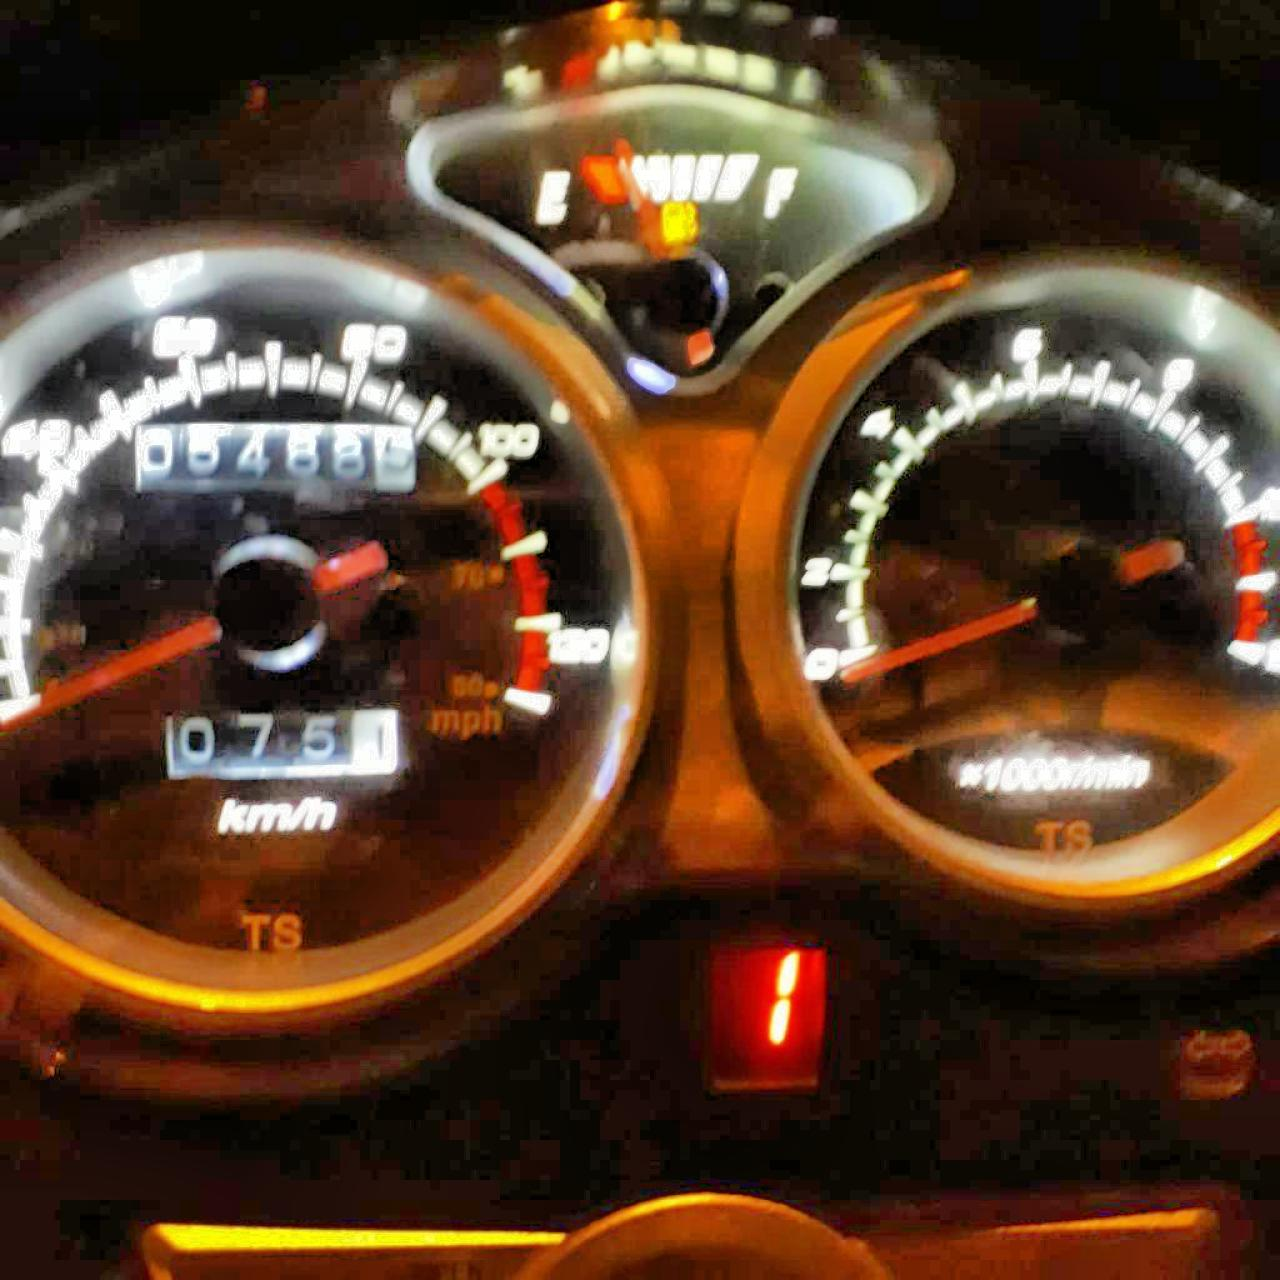0: (139, 427, 172, 478)
4: (234, 428, 270, 477)
5: (186, 424, 219, 475), (381, 431, 411, 472)
8: (282, 430, 320, 476), (331, 434, 365, 478)
odometer: (129, 417, 417, 497)
